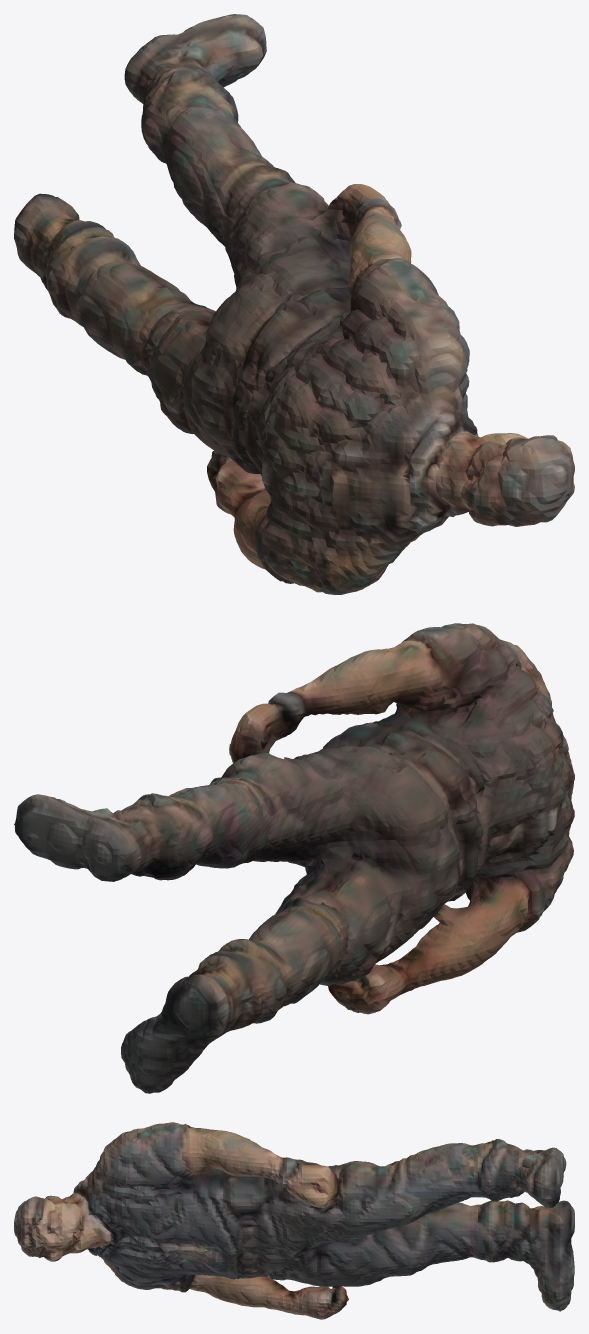
3 renders of one model, top to bottom at view 1: azimuth 30°, elevation 25°; view 2: azimuth 150°, elevation 25°; view 3: azimuth 270°, elevation 25°, orthographic. The views are drawn at different scales.
Parts seen in each view (by area): view 1: world; view 2: world; view 3: world.
Part boxes in pixels (x1,y1,x2,y2): world: (14, 14, 574, 594); world: (14, 623, 574, 1093); world: (14, 1122, 574, 1319).
Size of the model in its own units: 0.3985 by 0.4169 by 1.02.
